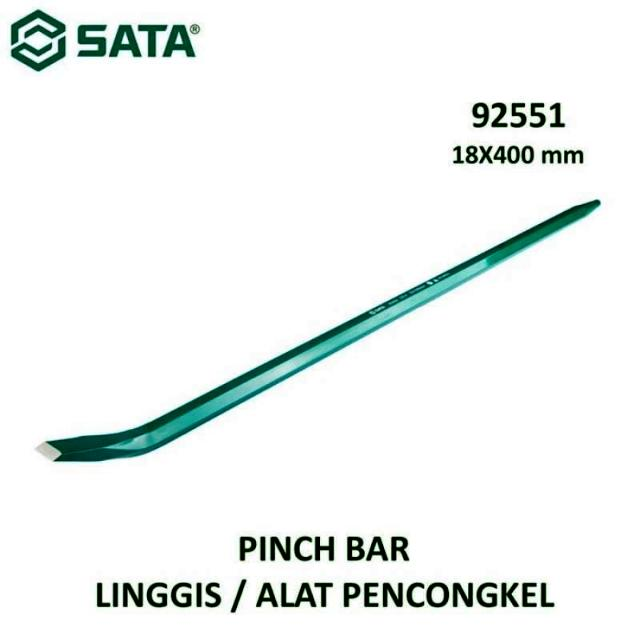crow bar: (39, 200, 601, 463)
